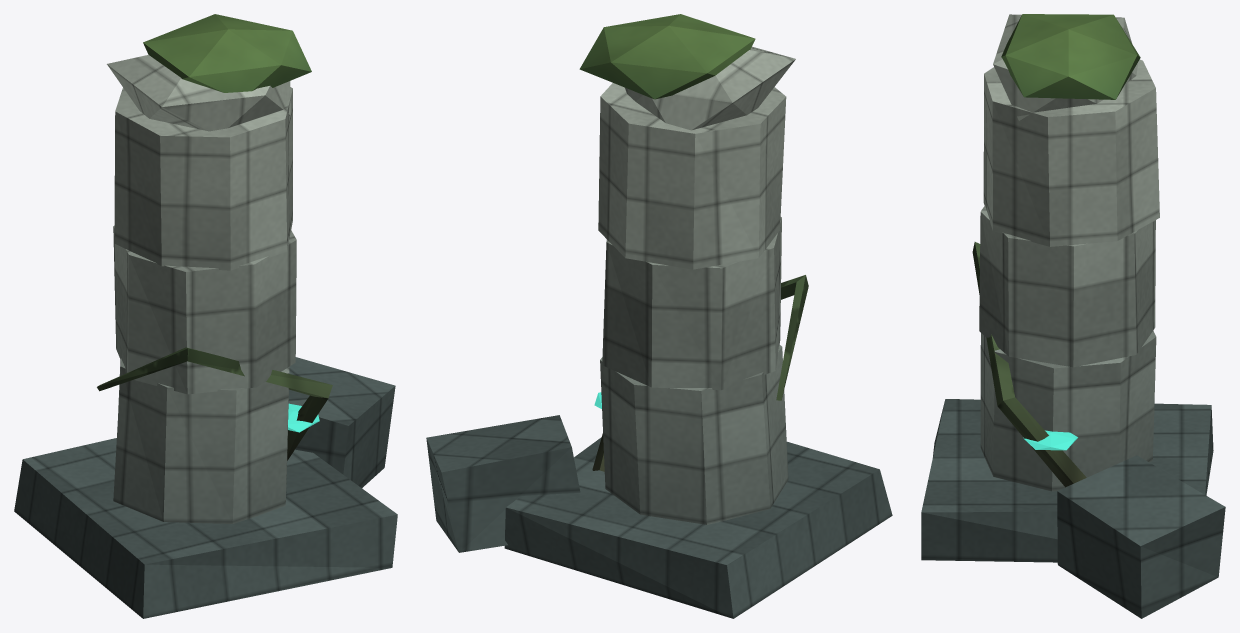
The model's file is ruin_pillar_a.glb.
The picture shows the model from 3 angles, left to right: view 1: azimuth 30°, elevation 25°; view 2: azimuth 150°, elevation 25°; view 3: azimuth 270°, elevation 25°; orthographic projection. The views are drawn at different scales.
Parts seen in each view (by area): view 1: ruin_pillar_a; view 2: ruin_pillar_a; view 3: ruin_pillar_a.
Part boxes in pixels (x1,y1,x2,y2): ruin_pillar_a: (14,14,397,618); ruin_pillar_a: (426,14,892,618); ruin_pillar_a: (921,14,1225,618).
Size of the model in its own units: 2.25 by 3.08 by 1.71.
Materials: 4 (4 with a texture image).
